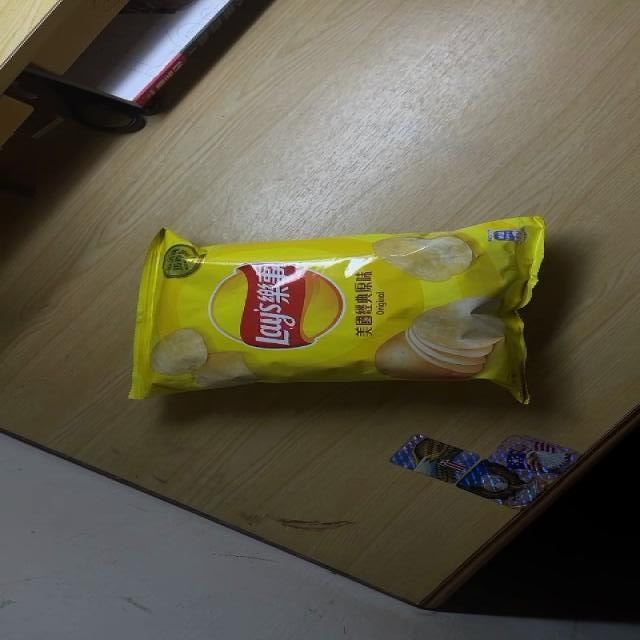Lay-s-original: (126, 215, 540, 404)
